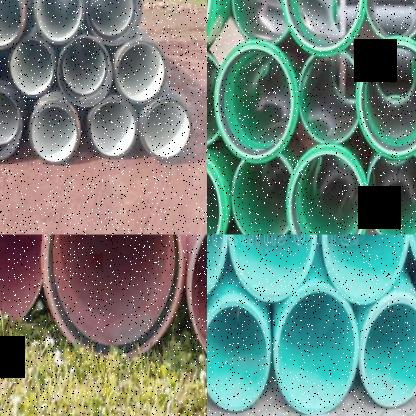pipe: (43, 234, 184, 359), (274, 285, 359, 414), (214, 44, 294, 160), (357, 38, 416, 160), (207, 301, 269, 412), (288, 151, 366, 234), (360, 296, 416, 408), (321, 234, 410, 304), (229, 234, 318, 302), (299, 52, 358, 143), (232, 153, 292, 234), (282, 0, 366, 56), (0, 234, 44, 330), (366, 154, 416, 234), (58, 36, 112, 108), (115, 41, 166, 104), (30, 102, 80, 164), (141, 99, 191, 160), (88, 99, 138, 159), (9, 38, 55, 97), (87, 0, 142, 46), (232, 0, 286, 45), (34, 0, 84, 44), (365, 0, 416, 38), (207, 148, 226, 234), (0, 89, 22, 161), (207, 51, 221, 149), (0, 0, 27, 49)
